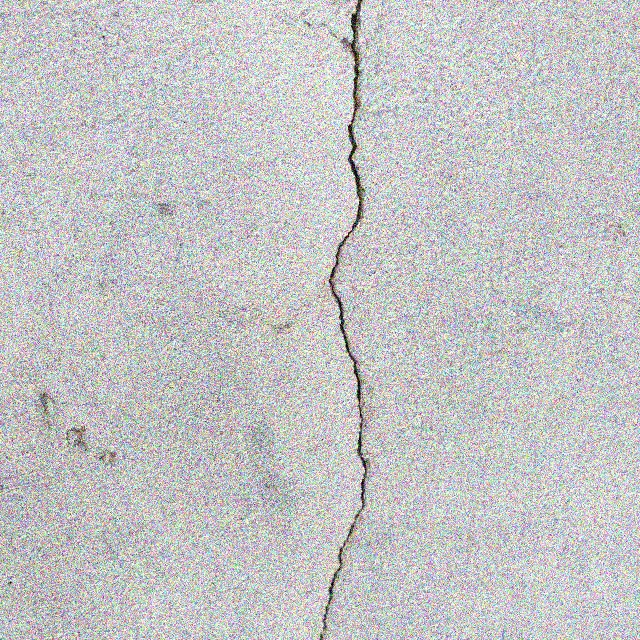SurfaceCrack: (270, 1, 410, 640)
